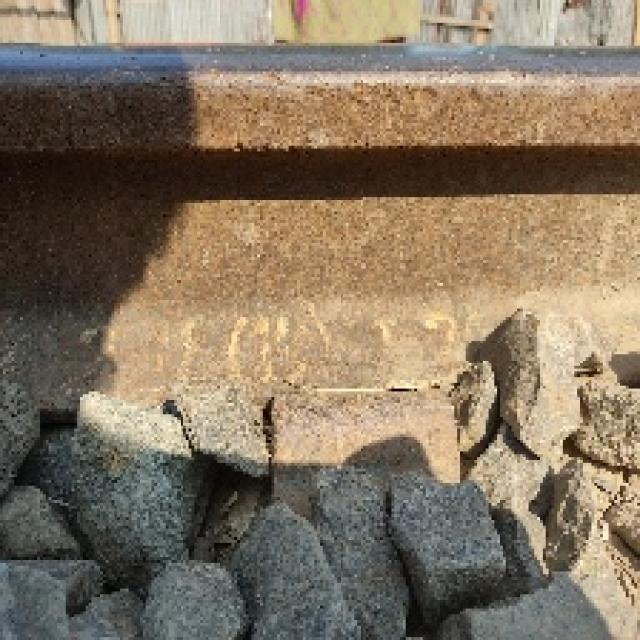Missing Fastener: (240, 357, 498, 562)
